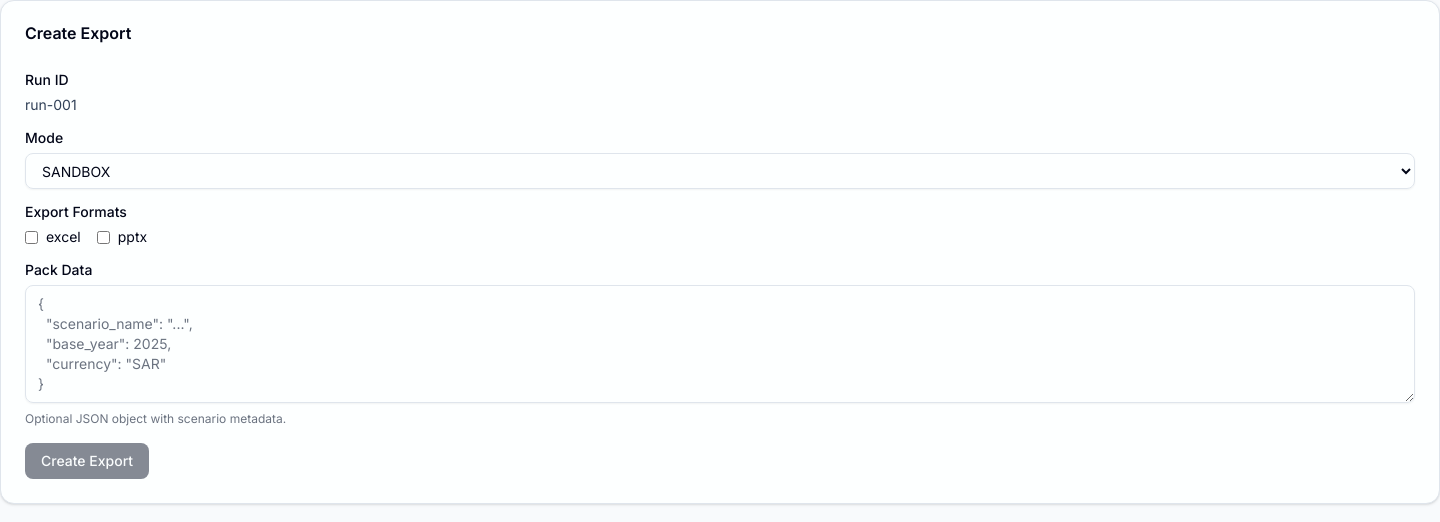
Test: ExportForm › submit button is enabled when at least one format is selected
This screenshot has width=1440, height=522.
Click the checkbox labelled "excel".
click(32, 237)  # box [25,230,38,244]
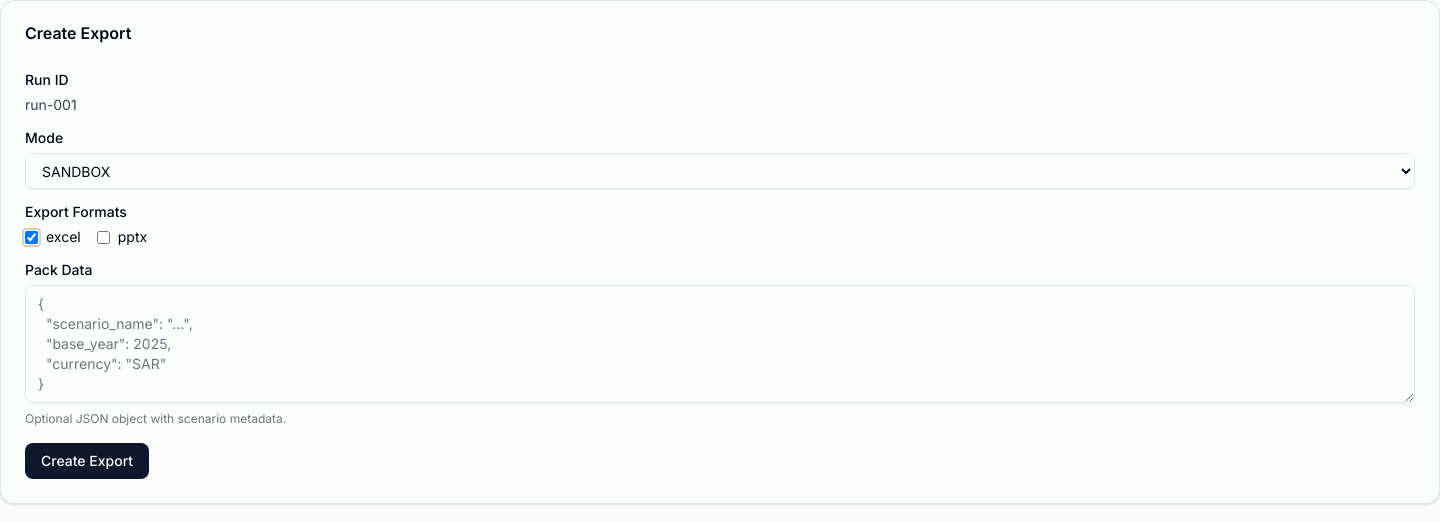
Result: the button "Create Export" is enabled at [25,443,149,479]
